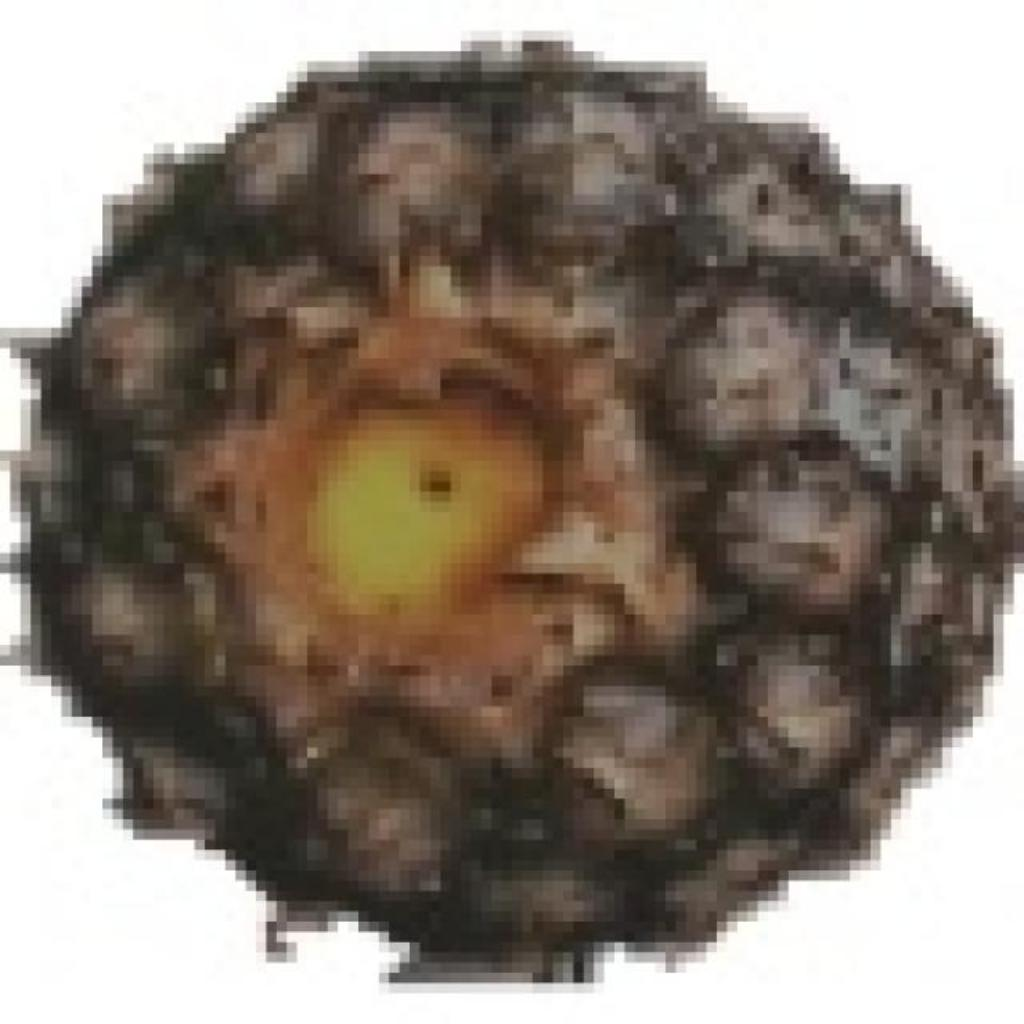pineapple: (61, 31, 1014, 952)
